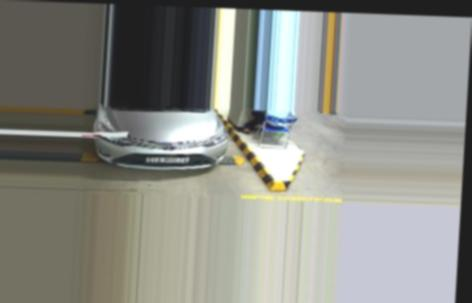License_Plate: (145, 154, 191, 166)
